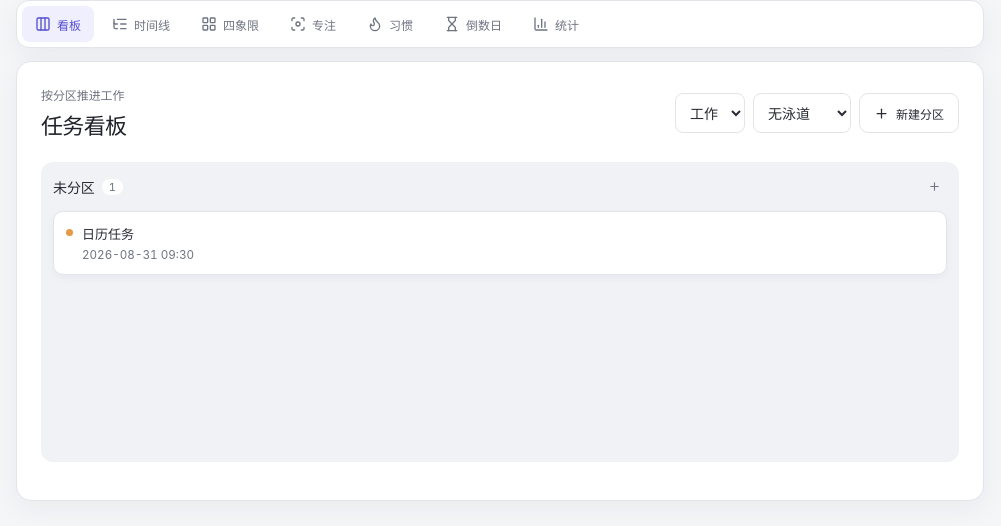
效率面板 › 在效率工作台切换视图并创建习惯
Expected: the heading "任务看板" is shown, [41, 108, 126, 140]
Click the button "习惯" at (390, 24), box [354, 6, 426, 42]
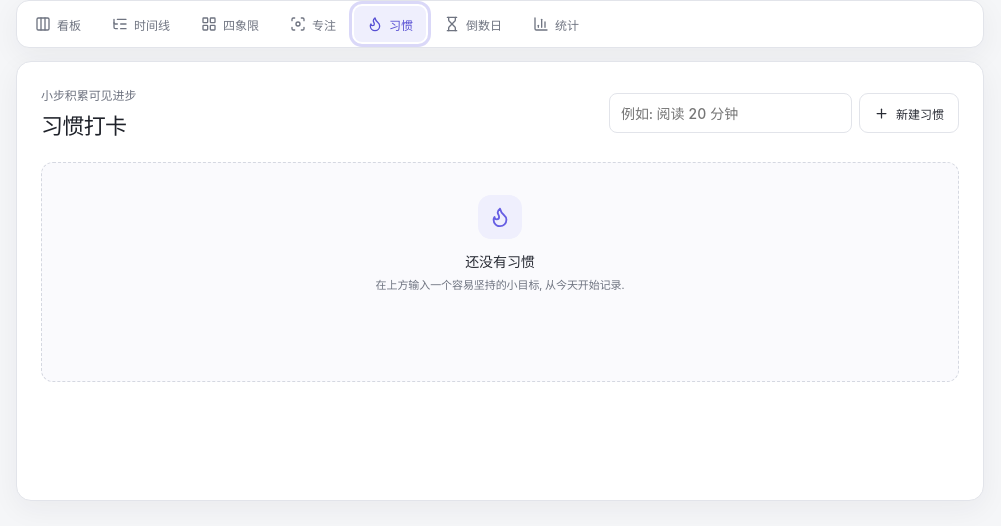
Type "晨间阅读" into the field named "新习惯名称" at (730, 113), box [609, 93, 852, 133]
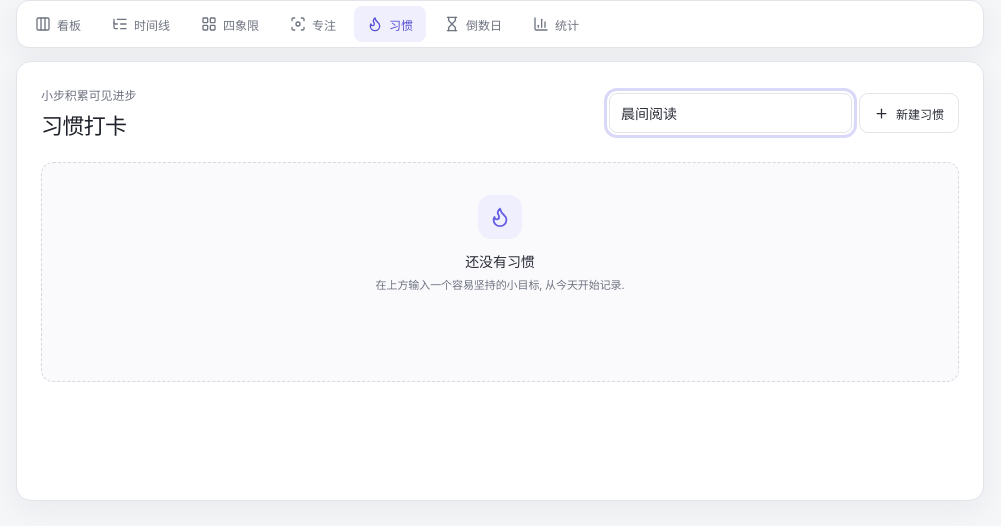
Click the button "新建习惯" at (909, 113), box [859, 93, 959, 133]
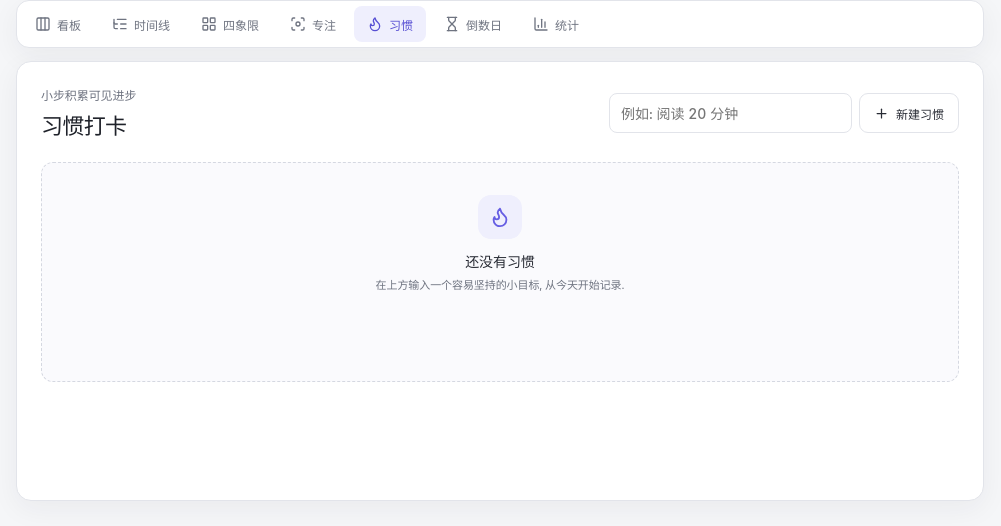
Click the button "统计" at (556, 24), box [520, 6, 592, 42]
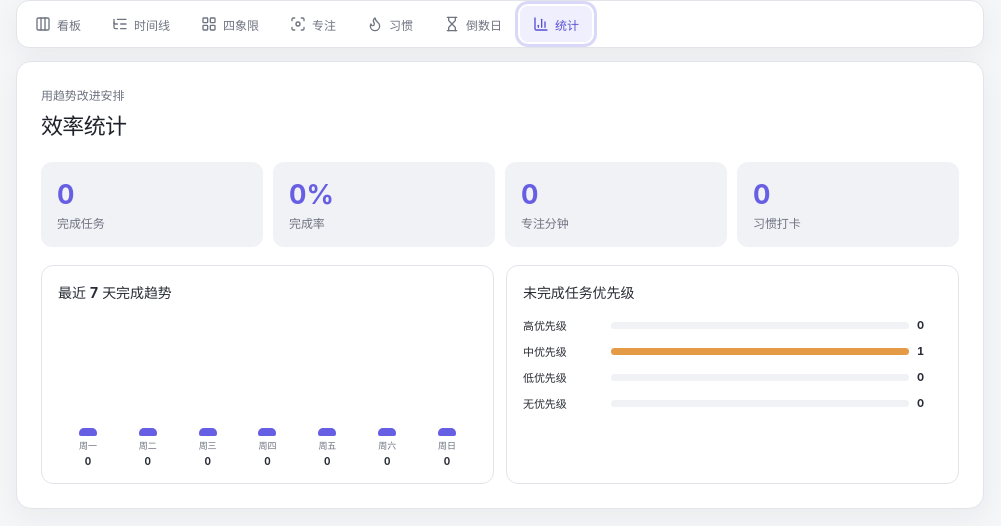
Expected: the heading "效率统计" is shown, [41, 108, 126, 140]
